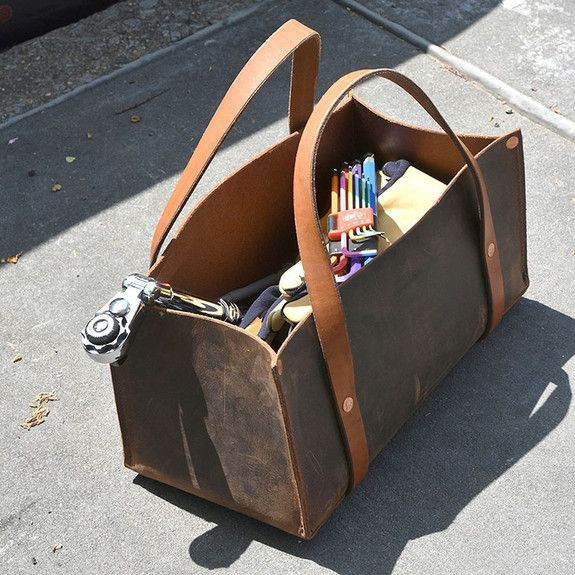cuero: (110, 19, 531, 539)
